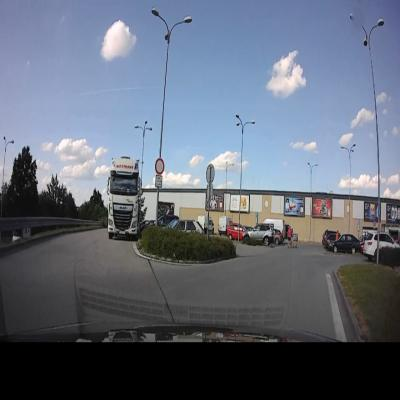clear-road: (0, 229, 366, 335)
